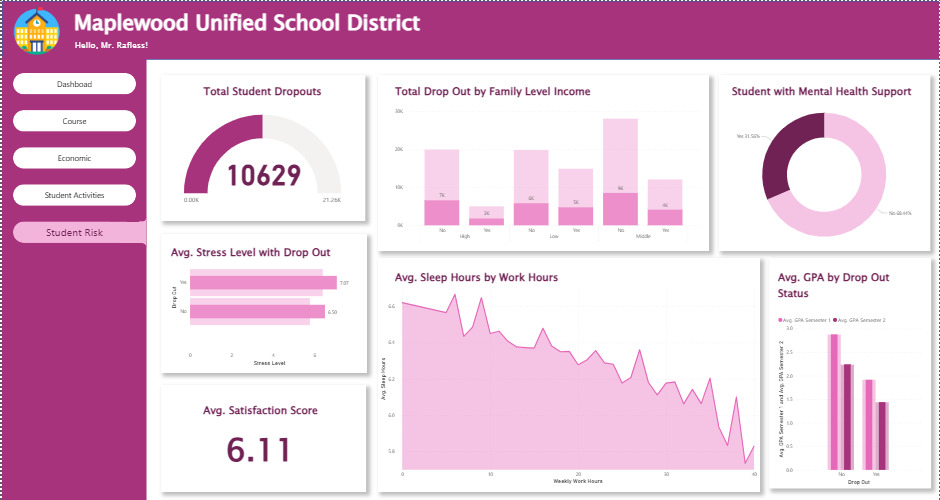

Layout of this report page (visuals, bound fields, positions):
{"tool":"powerbi","page":{"name":"Student Risk","canvas":[2400,1280],"ordinal":4},"visuals":[{"type":"shape","box":[0,0,2400,150],"z":0},{"type":"image","box":[23.3,10,131.7,131.7],"z":0,"group":"g1"},{"type":"shape","box":[351.9,549.9,18.2,82.9],"z":0,"group":"g3"},{"type":"group","id":"g1","title":"Group 1","box":[23.3,10,1078.3,131.7],"z":1000},{"type":"textbox","box":[179.1,10,922.5,91.2],"z":1000,"group":"g1"},{"type":"shape","box":[301.9,565.2,59.4,54.7],"z":1000,"group":"g3"},{"type":"textbox","box":[180.7,91.3,909.3,42.1],"z":2000,"group":"g1"},{"type":"shape","box":[962.5,190,847.5,450],"z":2000},{"type":"shape","box":[269,619.9,101.2,22.4],"z":2000,"group":"g3"},{"type":"shape","box":[0,143.3,370,1136.7],"z":3000},{"type":"shape","box":[269,542.8,101.2,22.4],"z":3000,"group":"g3"},{"type":"textbox","box":[1000,207.5,672.5,92.5],"z":4000},{"type":"image","box":[3716,211,45,70],"z":5000},{"type":"shape","box":[406.7,596.7,526.7,355],"z":6000},{"type":"group","id":"g2","title":"Group 2","box":[407.5,190,525,372.5],"z":7000},{"type":"shape","box":[407.5,190,523.3,373.3],"z":7000,"group":"g2"},{"type":"clusteredColumnChart","fields":{"Category":["Financial.family_income_level","student_dropout_risk_2026.dropout"],"Y":["CountNonNull(student_dropout_risk_2026.dropout)"]},"box":[1000,262.9,794.3,361.4],"z":8000},{"type":"shape","box":[1835.7,190,541.4,450],"z":9000},{"type":"gauge","fields":{"Y":["CountNonNull(student_dropout_risk_2026.dropout)"]},"box":[462.5,255,412.5,307.5],"z":9000,"group":"g2"},{"type":"textbox","box":[1864.3,208.6,535.7,92.9],"z":10000},{"type":"card","fields":{"Values":["CountNonNull(student_dropout_risk_2026.dropout)"]},"box":[450,307.5,437.5,255],"z":10000,"group":"g2"},{"type":"textbox","box":[459.7,207.2,417.8,55.6],"z":11000,"group":"g2"},{"type":"donutChart","fields":{"Category":["Internal.mental_health_support"],"Y":["CountNonNull(Internal.mental_health_support)"]},"box":[1810,217.1,590,454.3],"z":11000},{"type":"clusteredBarChart","fields":{"Category":["student_dropout_risk_2026.dropout"],"Y":["Avg(Internal.stress_level (bins))"]},"box":[427.5,607.5,470,332.5],"z":12000},{"type":"textbox","box":[428.3,620,673.3,91.7],"z":13000},{"type":"shape","box":[407.5,982.5,525,272.5],"z":14000},{"type":"card","fields":{"Values":["Avg(Internal.satisfaction_score)"]},"box":[515,1052.5,295,180],"z":15000},{"type":"textbox","box":[452.5,1025,417.5,55],"z":16000},{"type":"shape","box":[962.5,657.5,977.5,597.5],"z":17000},{"type":"areaChart","fields":{"Category":["Financial.weekly_work_hours"],"Y":["Avg(Internal.sleep_hours)"]},"box":[962.5,722.5,977.5,520],"z":18000},{"type":"textbox","box":[1000,682.5,672.5,92.5],"z":19000},{"type":"shape","box":[1962.5,657.5,415,590],"z":20000},{"type":"clusteredColumnChart","fields":{"Category":["student_dropout_risk_2026.dropout"],"Y":["Avg(Course.gpa_semester_1)","Avg(Course.gpa_semester_2)"]},"box":[1982.5,795,377.5,447.5],"z":21000},{"type":"textbox","box":[1982.5,682.5,350,112.5],"z":22000},{"type":"pageNavigator","box":[27.5,185,315,435],"z":23000},{"type":"group","id":"g3","title":"Group 8","box":[269,542.8,101,99.5],"z":24000}]}

Visuals, with their boxes in screenshot pixels (x1, y1, x2, y2), scaled from the page's 2400x1280 canvas onto the 940x500 screenshot:
shape: box=[0, 0, 939, 59]
image: box=[9, 4, 61, 55]
shape: box=[138, 215, 145, 247]
"Group 1" group: box=[9, 4, 431, 55]
textbox: box=[70, 4, 431, 40]
shape: box=[118, 221, 142, 242]
textbox: box=[71, 36, 427, 52]
shape: box=[377, 74, 709, 250]
shape: box=[105, 242, 145, 251]
shape: box=[0, 56, 145, 499]
shape: box=[105, 212, 145, 221]
textbox: box=[392, 81, 655, 117]
shape: box=[159, 233, 366, 372]
"Group 2" group: box=[160, 74, 365, 220]
shape: box=[160, 74, 365, 220]
clusteredColumnChart - Financial.family_income_level x student_dropout_risk_2026.dropout: box=[392, 103, 703, 244]
shape: box=[719, 74, 931, 250]
gauge - CountNonNull(student_dropout_risk_2026.dropout): box=[181, 100, 343, 220]
textbox: box=[730, 81, 939, 118]
card - CountNonNull(student_dropout_risk_2026.dropout): box=[176, 120, 348, 220]
textbox: box=[180, 81, 344, 103]
donutChart - Internal.mental_health_support x CountNonNull(Internal.mental_health_support): box=[709, 85, 939, 262]
clusteredBarChart - student_dropout_risk_2026.dropout x Avg(Internal.stress_level (bins)): box=[167, 237, 352, 367]
textbox: box=[168, 242, 431, 278]
shape: box=[160, 384, 365, 490]
card - Avg(Internal.satisfaction_score): box=[202, 411, 317, 481]
textbox: box=[177, 400, 341, 422]
shape: box=[377, 257, 760, 490]
areaChart - Financial.weekly_work_hours x Avg(Internal.sleep_hours): box=[377, 282, 760, 485]
textbox: box=[392, 267, 655, 303]
shape: box=[769, 257, 931, 487]
clusteredColumnChart - student_dropout_risk_2026.dropout x Avg(Course.gpa_semester_1): box=[776, 311, 924, 485]
textbox: box=[776, 267, 914, 311]
pageNavigator: box=[11, 72, 134, 242]
"Group 8" group: box=[105, 212, 145, 251]
